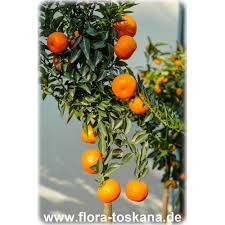orange: (109, 12, 139, 39), (94, 176, 122, 203), (112, 72, 138, 100), (80, 147, 103, 177), (112, 34, 139, 59), (126, 176, 150, 203), (46, 29, 70, 54)
